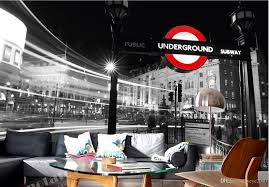London Underground: (162, 23, 213, 73)
